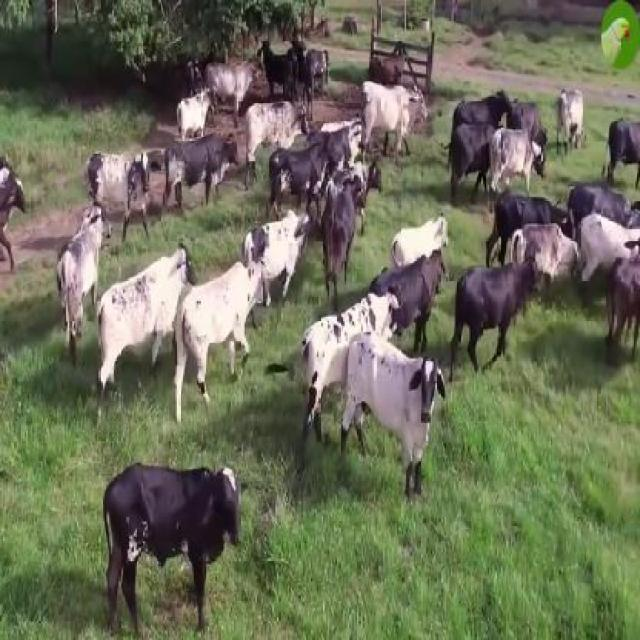Cow: (103, 462, 242, 628), (340, 338, 440, 497), (449, 263, 531, 379), (56, 205, 106, 348)
